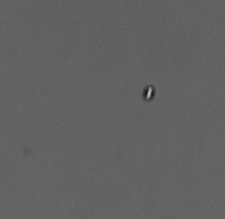Living Cell: (141, 83, 156, 103)
